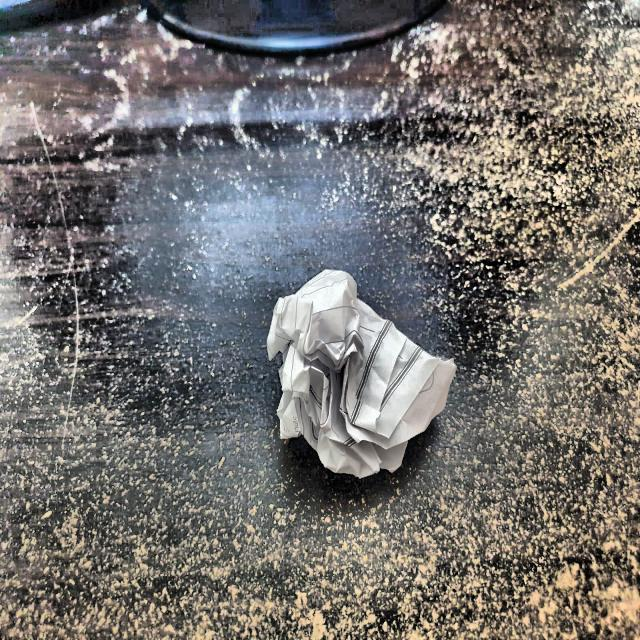Paper: (266, 267, 464, 483)
